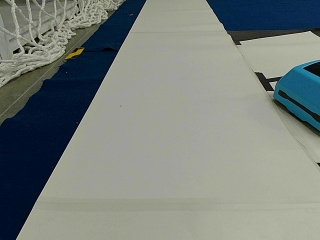car: (272, 58, 319, 131)
